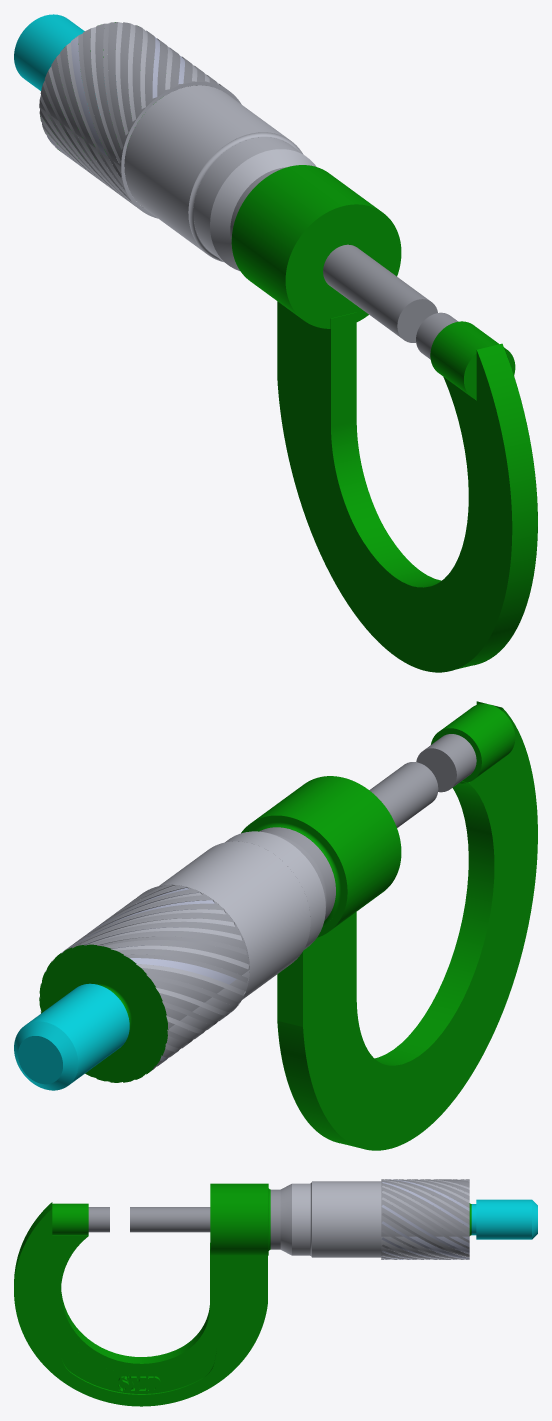
The model's file is micrometer.glb.
3 views of the same model, one above another, from view 1: azimuth 30°, elevation 25°; view 2: azimuth 150°, elevation 25°; view 3: azimuth 270°, elevation 25° (orthographic). The views are drawn at different scales.
Visible parts, largest first — view 1: currentmodel.wrl.cleaner.materialmerger.gles; view 2: currentmodel.wrl.cleaner.materialmerger.gles; view 3: currentmodel.wrl.cleaner.materialmerger.gles.
Boxes of the visible parts, x1,y1,x2,y2 form: currentmodel.wrl.cleaner.materialmerger.gles: (14, 14, 537, 672); currentmodel.wrl.cleaner.materialmerger.gles: (14, 701, 537, 1150); currentmodel.wrl.cleaner.materialmerger.gles: (14, 1179, 537, 1406).
Size of the model in its own units: 0.383 by 1.16 by 2.5.
